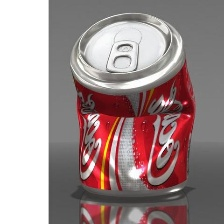can: (71, 9, 197, 197), (73, 189, 191, 224)
